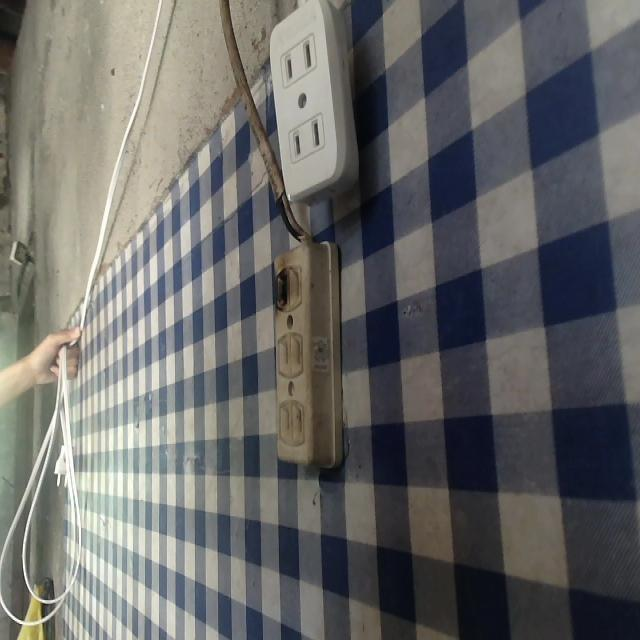-: (268, 259, 290, 313)
